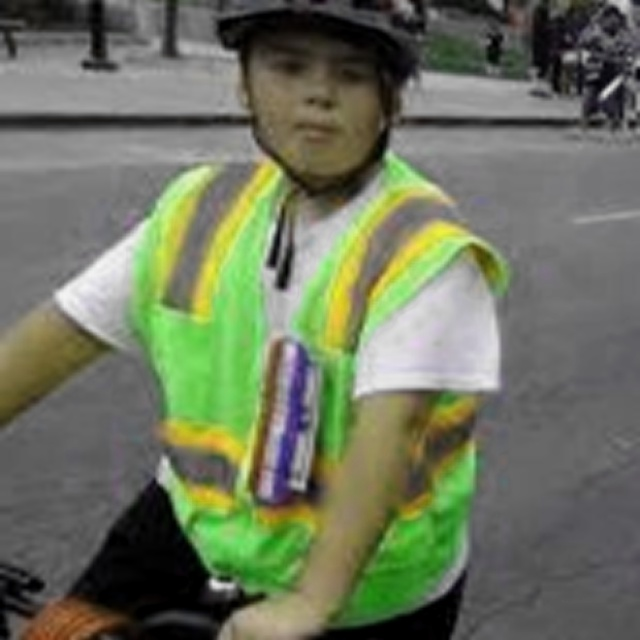Con_Chaleco: (148, 158, 506, 593)
